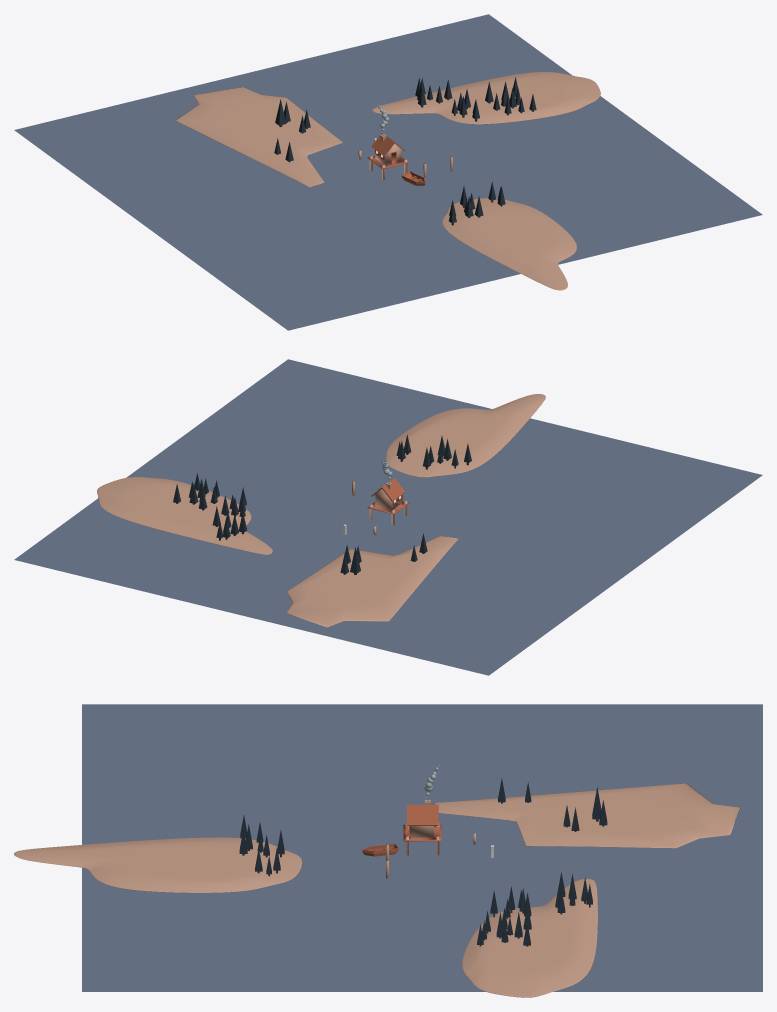
File: cabin_water.glb
3 views of the same model, one above another, from view 1: azimuth 30°, elevation 25°; view 2: azimuth 150°, elevation 25°; view 3: azimuth 270°, elevation 25° (orthographic). The views are drawn at different scales.
Parts seen in each view (by area): view 1: water, land nw, land south, land ne; view 2: water, land nw, land south, land ne; view 3: water, land nw, land south, land ne, roof.
Boxes of the visible parts, bbox=[...] form: water: bbox=[14, 14, 762, 330]; land nw: bbox=[175, 87, 343, 187]; land south: bbox=[442, 198, 577, 290]; land ne: bbox=[372, 72, 600, 124]; water: bbox=[14, 359, 762, 675]; land nw: bbox=[286, 536, 458, 627]; land south: bbox=[386, 394, 545, 477]; land ne: bbox=[97, 477, 272, 554]; water: bbox=[82, 704, 762, 991]; land nw: bbox=[432, 783, 740, 848]; land south: bbox=[14, 837, 302, 892]; land ne: bbox=[462, 878, 597, 997]; roof: bbox=[407, 804, 438, 825].
Bounding box in the file's own units: 109 × 28.7 × 117.
